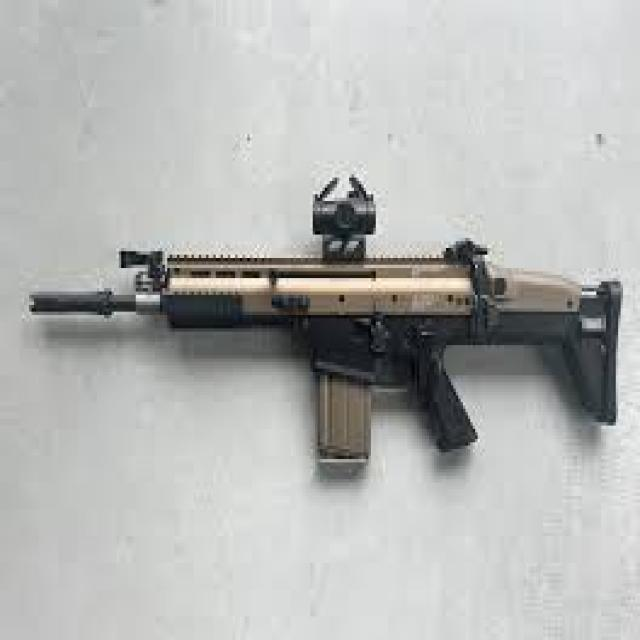Gun: (27, 144, 640, 518)
